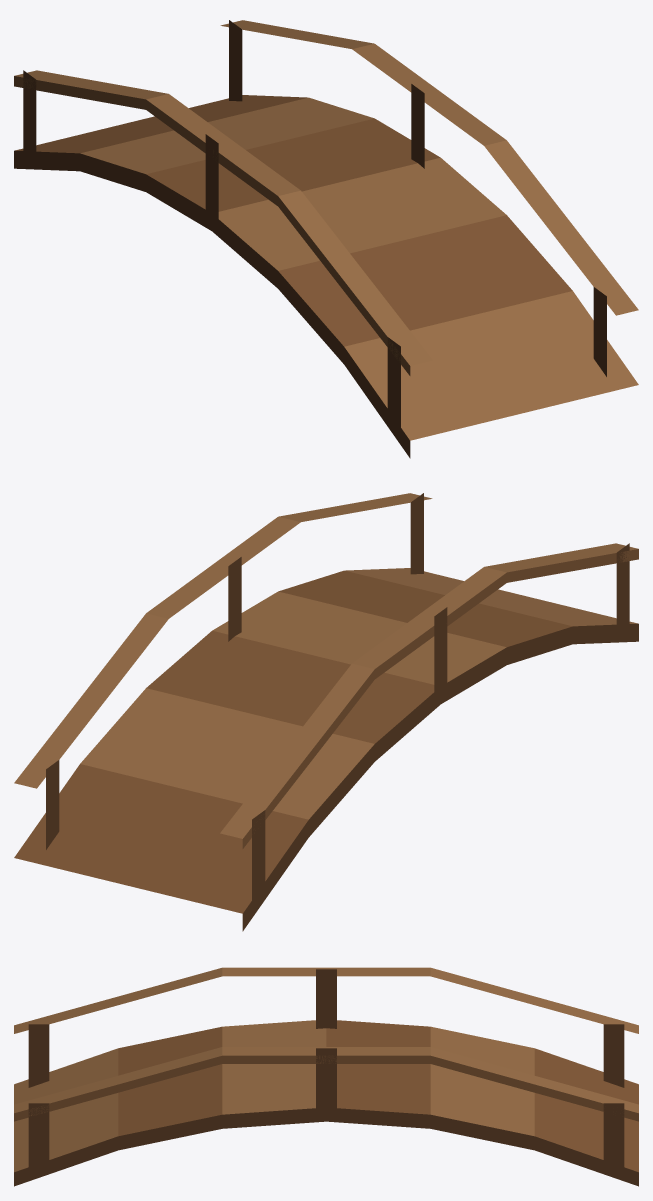
The model's file is bridge.glb.
The picture shows the model from 3 angles, top to bottom: view 1: azimuth 30°, elevation 25°; view 2: azimuth 150°, elevation 25°; view 3: azimuth 270°, elevation 25°; orthographic projection. The views are drawn at different scales.
Parts seen in each view (by area): view 1: m; view 2: m; view 3: m.
Boxes of the visible parts, x1,y1,x2,y2 form: m: (14,20,638,458); m: (14,493,638,931); m: (14,967,638,1186).
Size of the model in its own units: 1.6 by 1.17 by 4.8.
